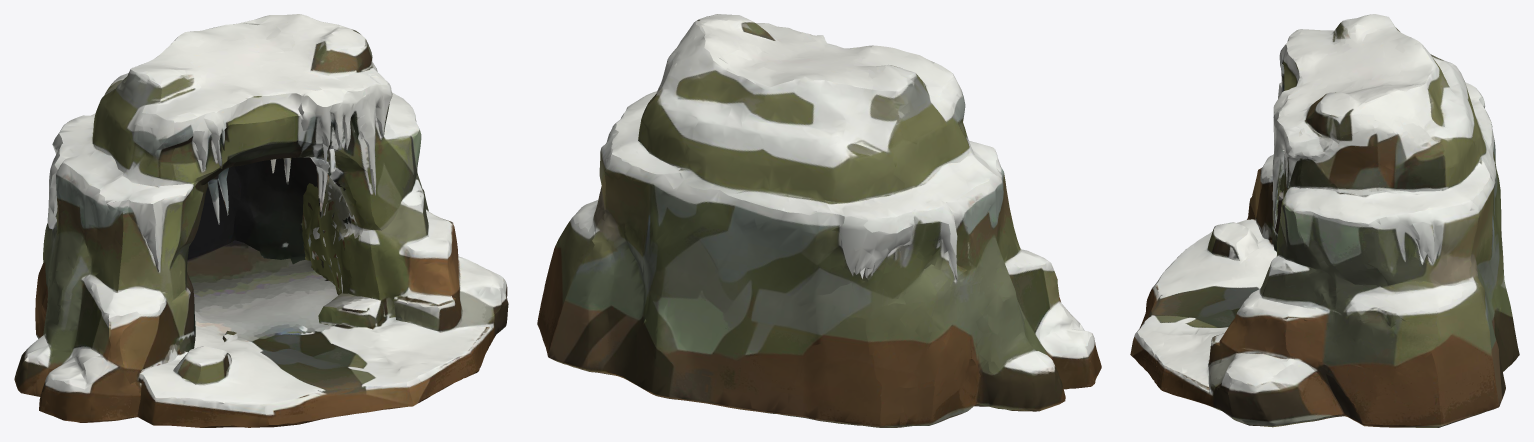
The model's file is snow_bear_den.glb.
3 renders of one model, left to right at view 1: azimuth 30°, elevation 25°; view 2: azimuth 150°, elevation 25°; view 3: azimuth 270°, elevation 25°, orthographic. The views are drawn at different scales.
Visible parts, largest first — view 1: snow_bear_den; view 2: snow_bear_den; view 3: snow_bear_den.
Boxes of the visible parts, box(x1,y1,x2,y2) form: snow_bear_den: box(14, 14, 508, 427); snow_bear_den: box(537, 14, 1101, 427); snow_bear_den: box(1130, 14, 1519, 427).
Size of the model in its own units: 4 by 2.49 by 3.12.
Materials: 1 (1 with a texture image).
